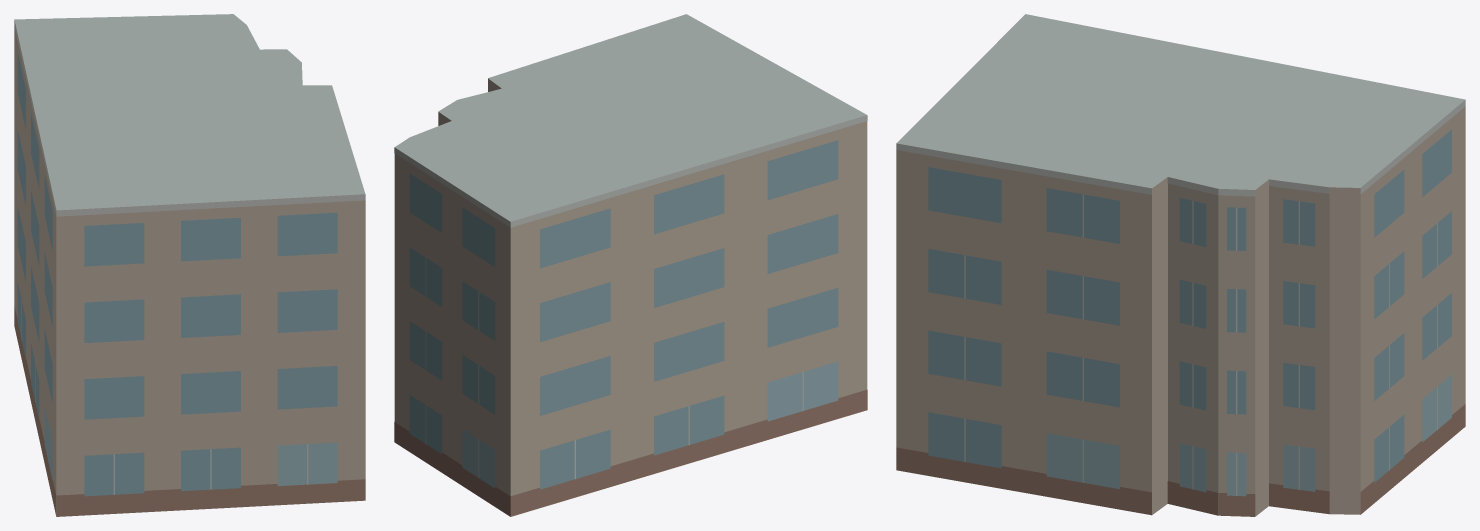
File: survey-upis-32576055.glb
3 renders of one model, left to right at view 1: azimuth 30°, elevation 25°; view 2: azimuth 150°, elevation 25°; view 3: azimuth 270°, elevation 25°, orthographic. The views are drawn at different scales.
Parts seen in each view (by area): view 1: survey-upis-32576055.tmp; view 2: survey-upis-32576055.tmp; view 3: survey-upis-32576055.tmp.
Boxes of the visible parts, x1,y1,x2,y2 form: survey-upis-32576055.tmp: (14,14,365,516); survey-upis-32576055.tmp: (394,14,867,516); survey-upis-32576055.tmp: (896,14,1465,516).
Size of the model in its own units: 14.1 by 12.2 by 19.27.
